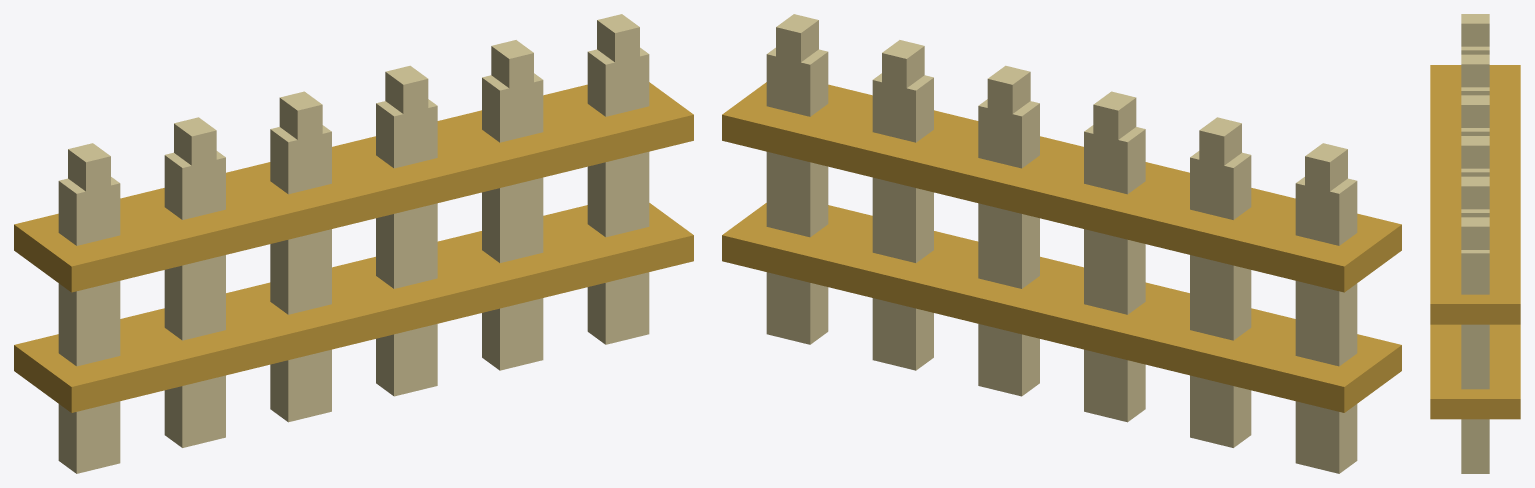
Rendered from ncb-picket-yellow.glb.
3 views of the same model, side by side, from view 1: azimuth 30°, elevation 25°; view 2: azimuth 150°, elevation 25°; view 3: azimuth 270°, elevation 25° (orthographic). The views are drawn at different scales.
Parts seen in each view (by area): view 1: box-prop; view 2: box-prop; view 3: box-prop.
Part boxes in pixels (x1=…): box-prop: x1=14, y1=14, x2=693, y2=473; box-prop: x1=722, y1=14, x2=1401, y2=473; box-prop: x1=1430, y1=14, x2=1520, y2=473.
Size of the model in its own units: 2 by 0.95 by 0.32.
